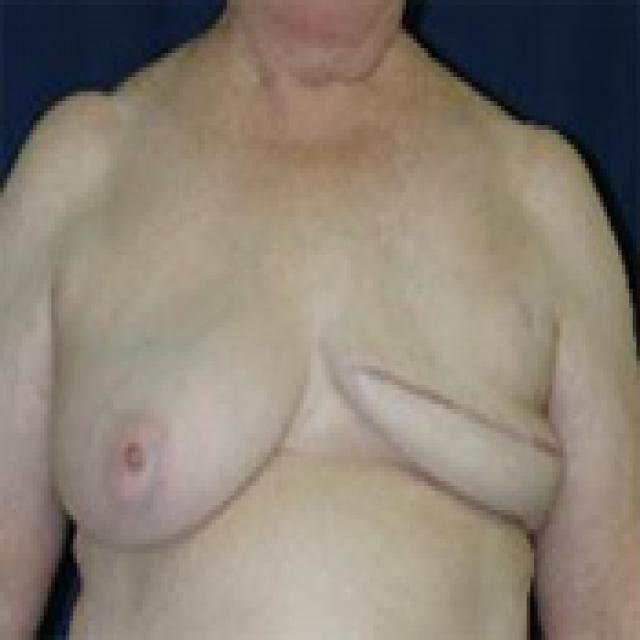Seno herido: (320, 292, 574, 562)
Seno ileso: (43, 294, 315, 576)
